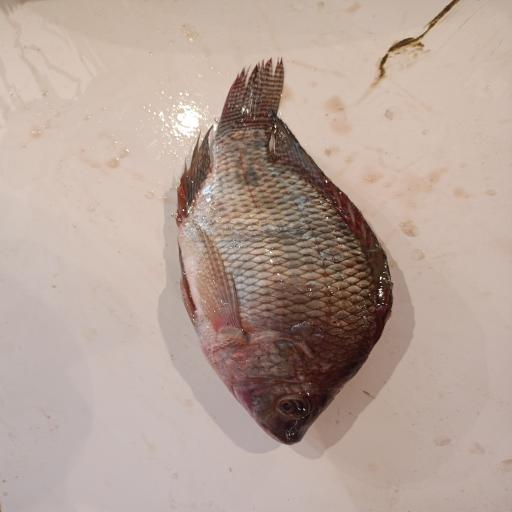Tilapia: (175, 57, 394, 445)
